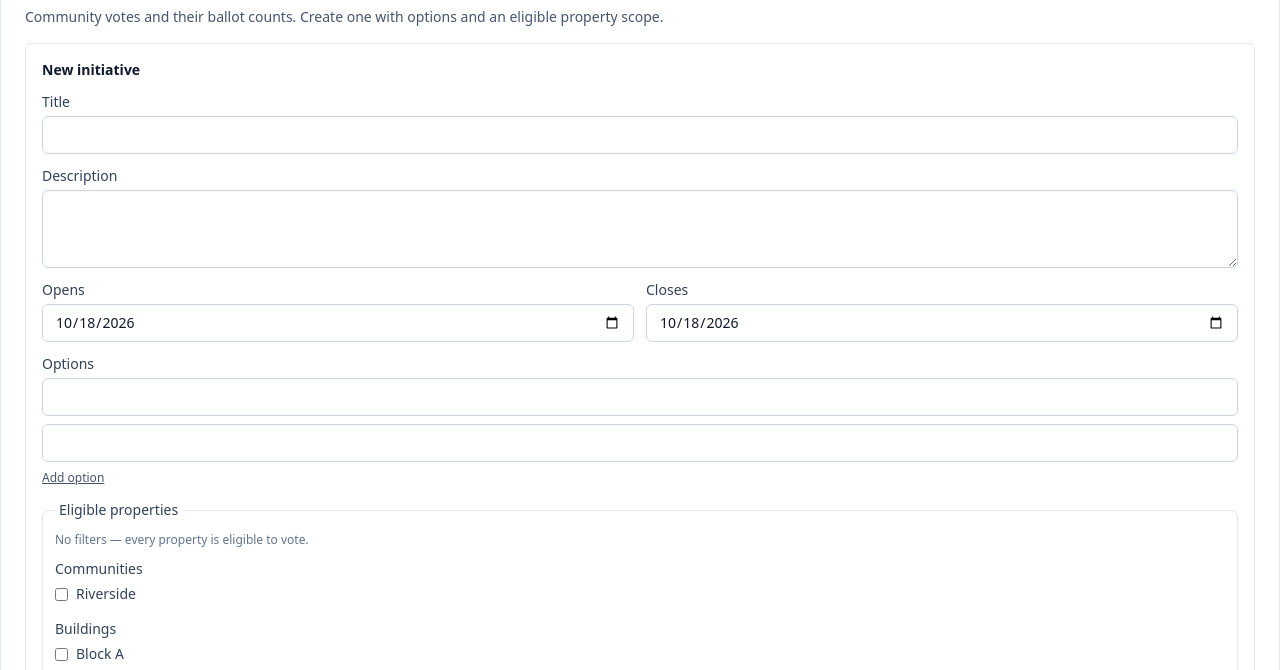
InitiativesSection › disables submission until the draft is valid
Type "Bike racks" into the field named "Initiative title" at (640, 135), box [42,116,1238,154]
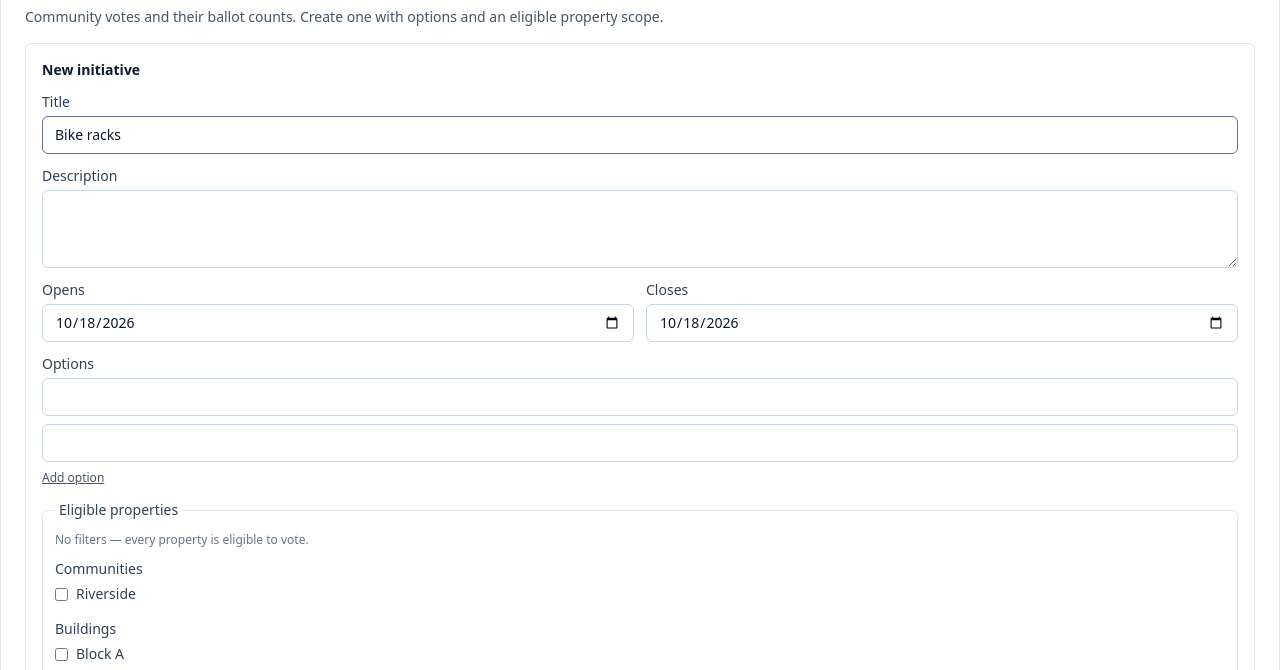
Type "Should we install two bike racks?" into the text box named "Initiative description" at (640, 229), box [42,190,1238,268]
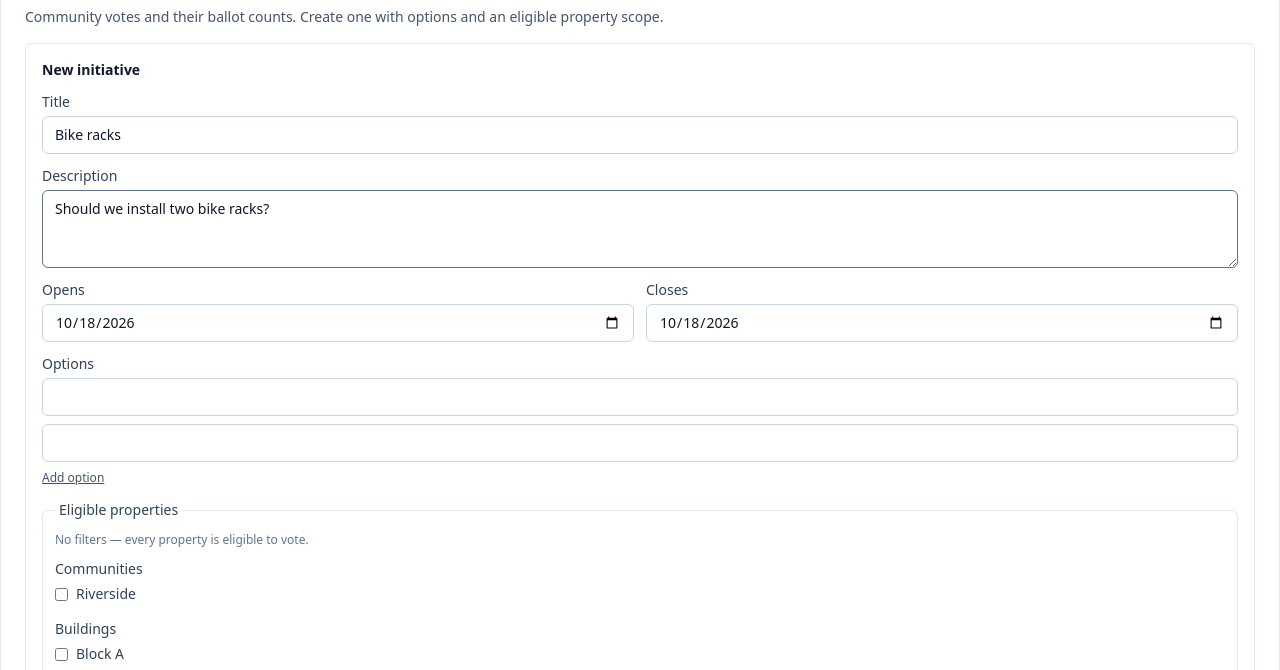
Type "Yes" into the field named "Option 1" at (640, 397), box [42,378,1238,416]
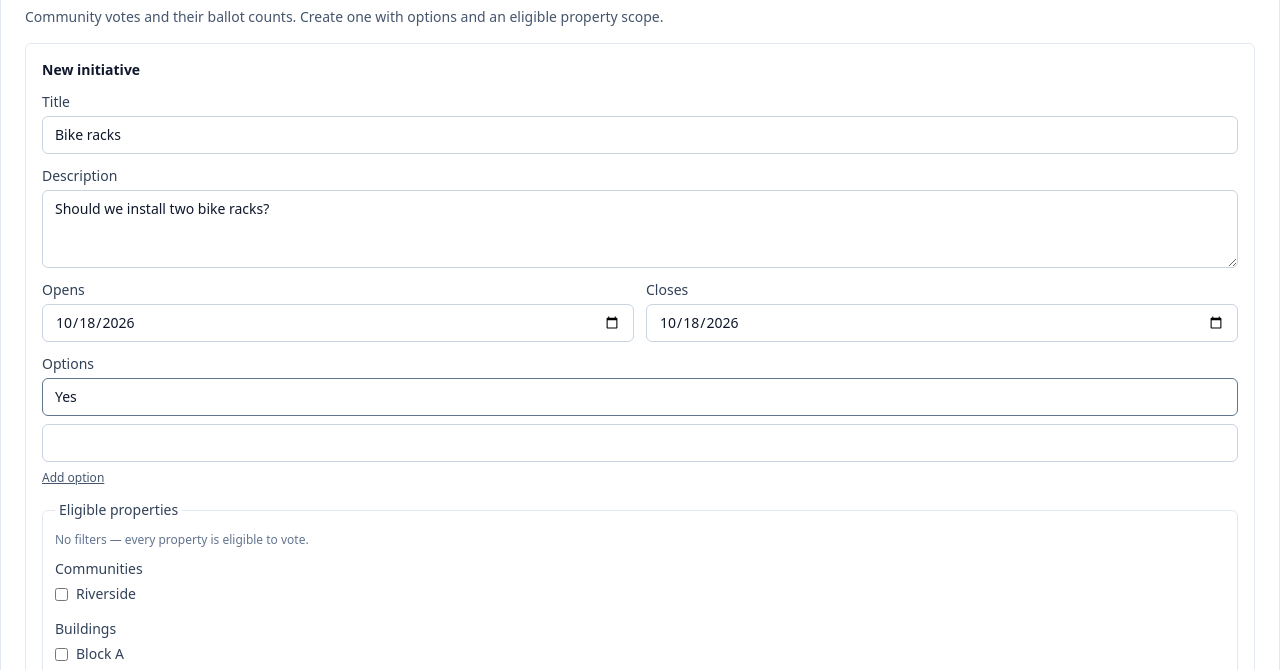
Type "No" into the field named "Option 2" at (640, 443), box [42,424,1238,462]
(page scrolled)
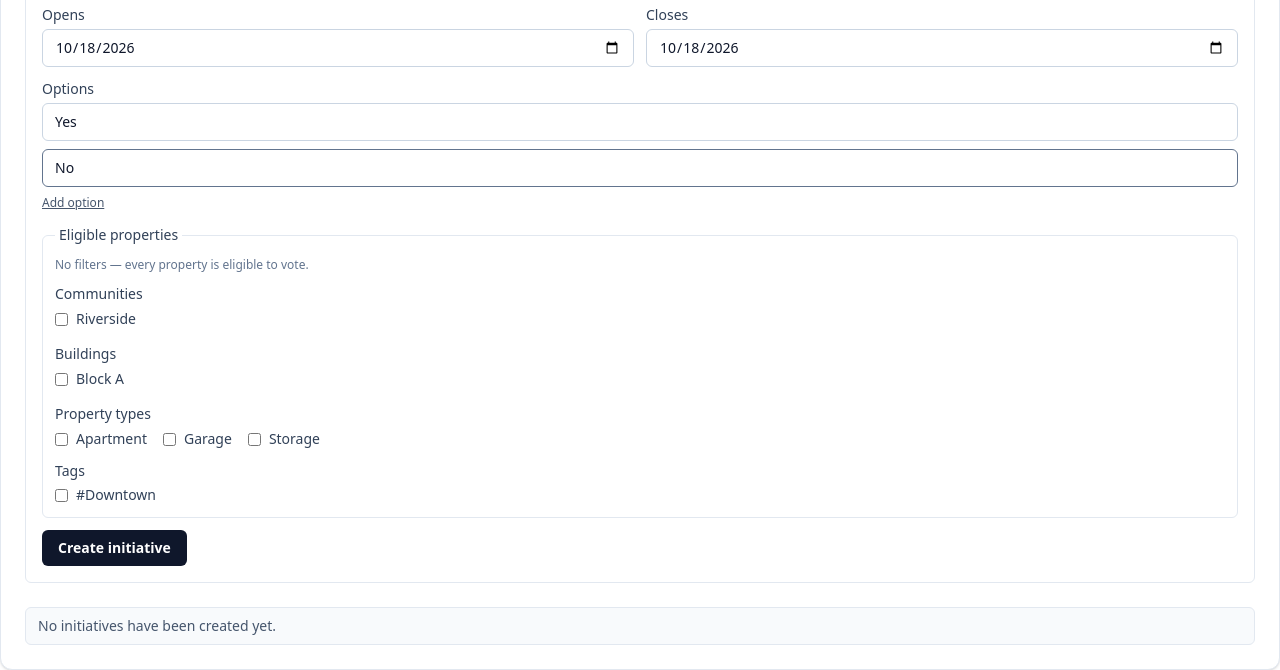
Check: the button "Create initiative" is enabled, box [42,530,187,566]
